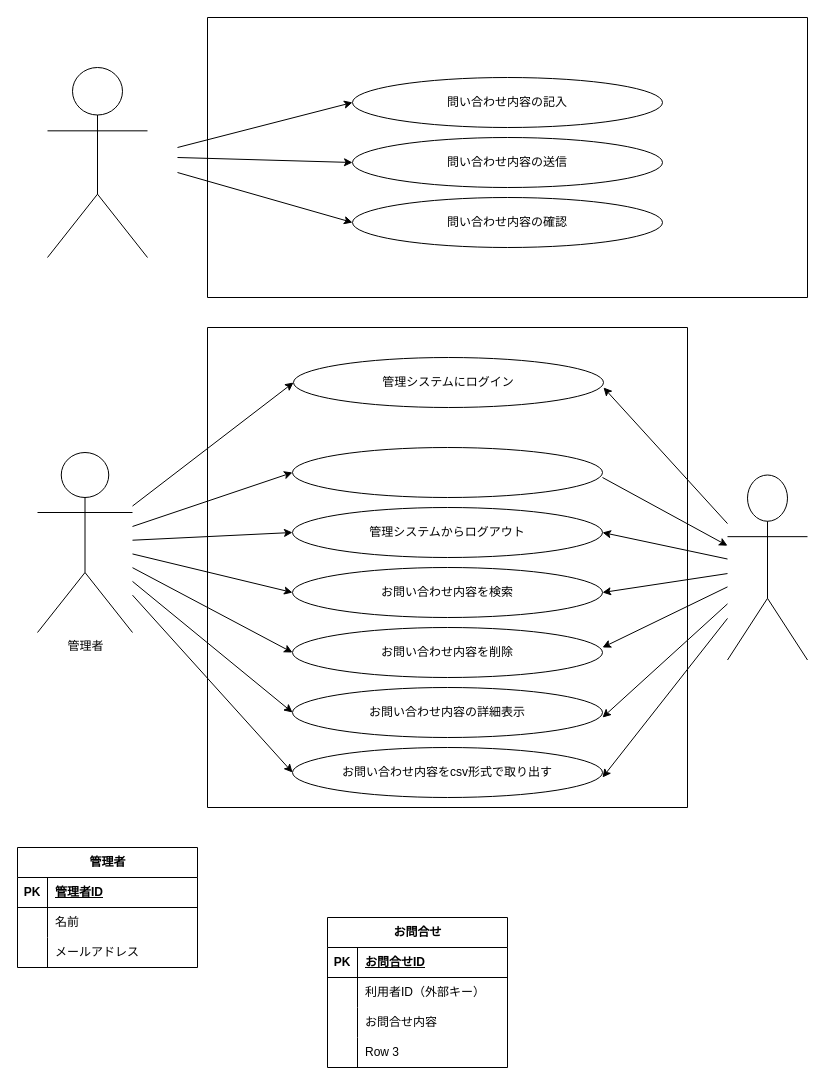
The diagram is 825 pixels wide and 1085 high, and some of its shapes have lost their labels. Here are the shapes that lost their labels. From the top down, the box of each, then its label:
(46, 66, 148, 258): 利用者
(206, 16, 808, 298): 問い合わせ送信システム
(292, 446, 602, 498): 新規ユーザーの作成・登録
(206, 326, 688, 808): 問い合わせ管理システム
(726, 474, 808, 660): 新規管理者
